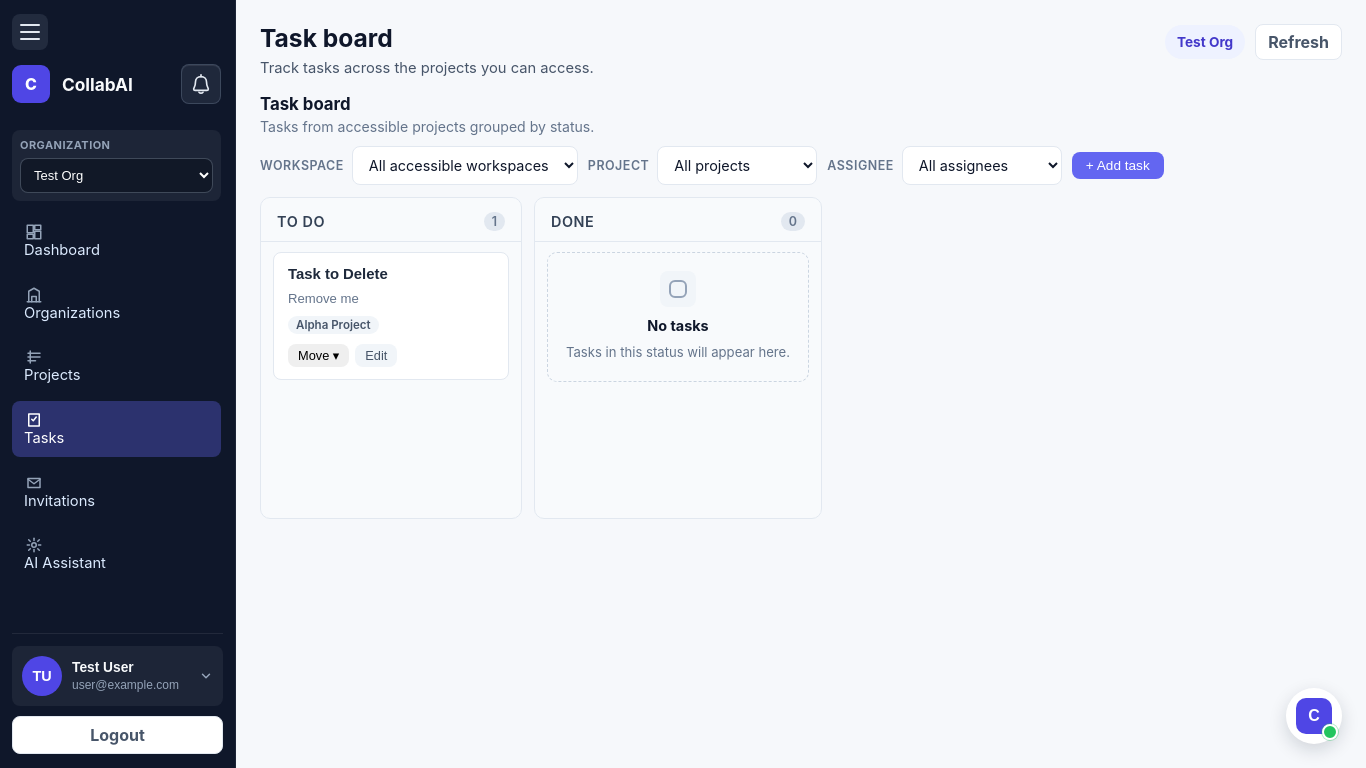
Scenario: Task management › deletes a task after confirmation
Click the button with aria-label "View details for Task to Delete" at (391, 290), box [288,265,494,315]
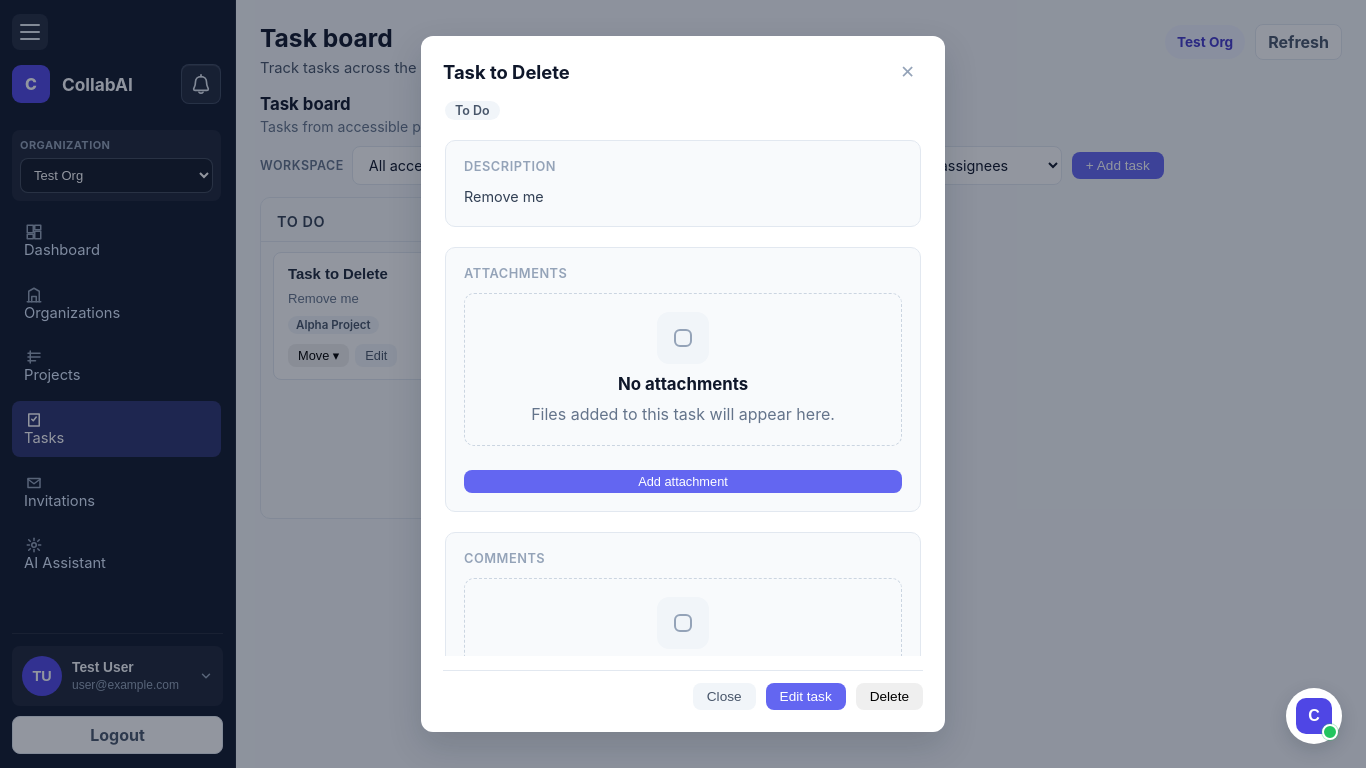
Click the button with test id "task-detail-delete" at (890, 697), box [856,683,923,710]
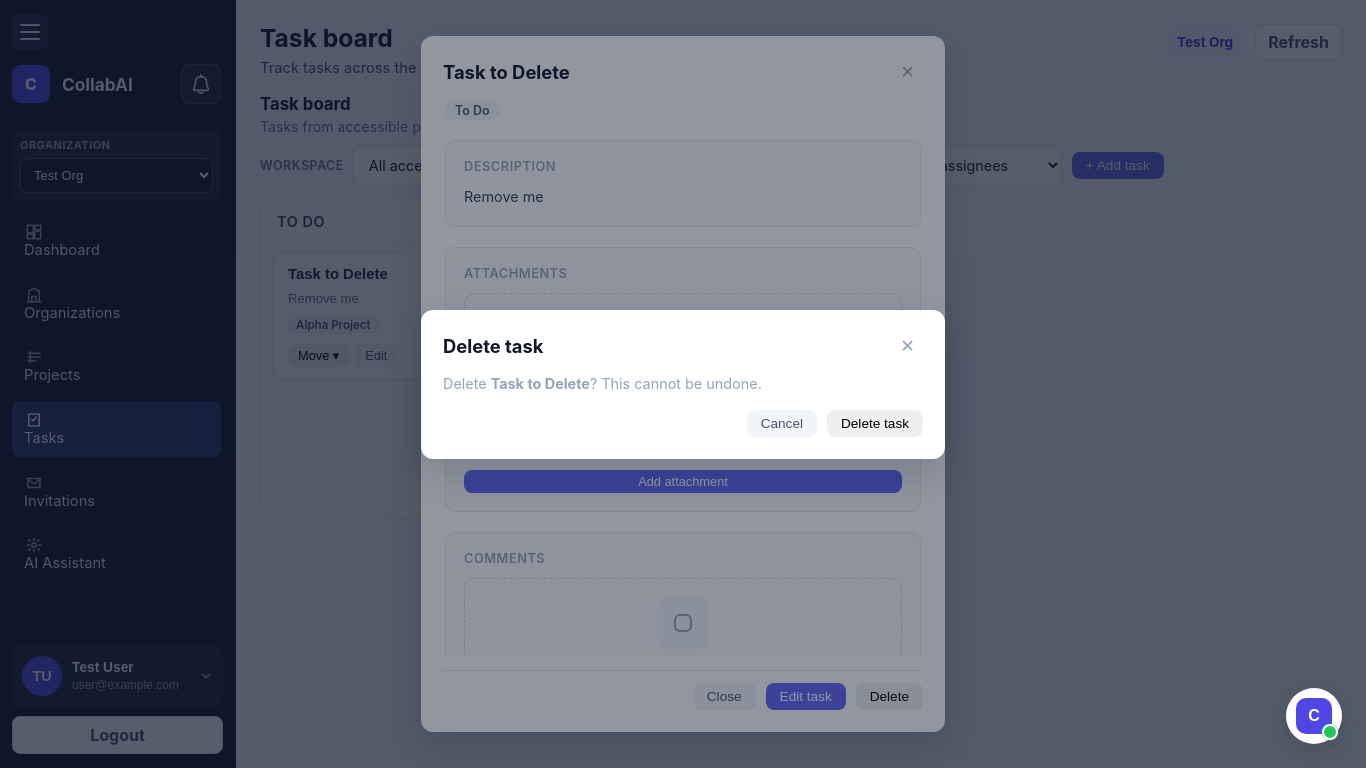
Click the button "Delete task" at (875, 424), box [827,410,923,437]
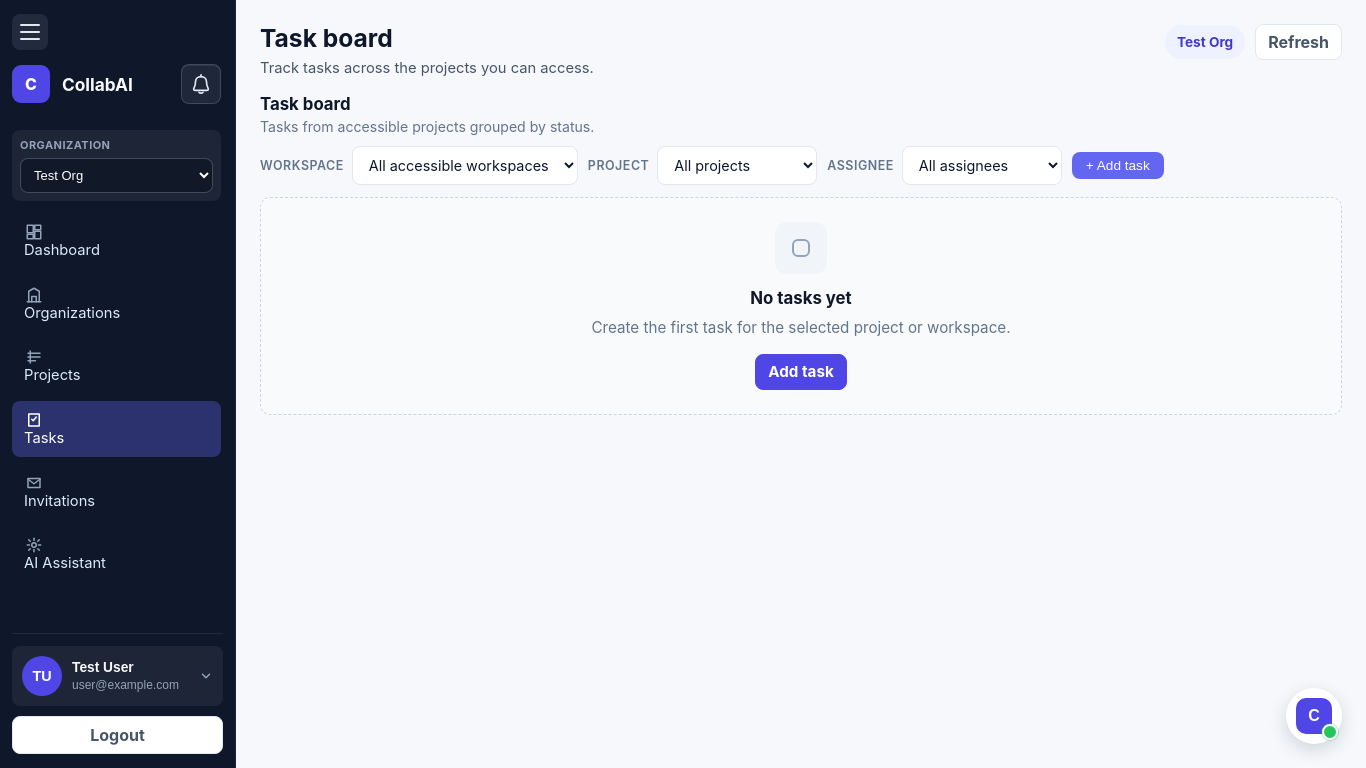
Expected: the button "Task to Delete" is gone
